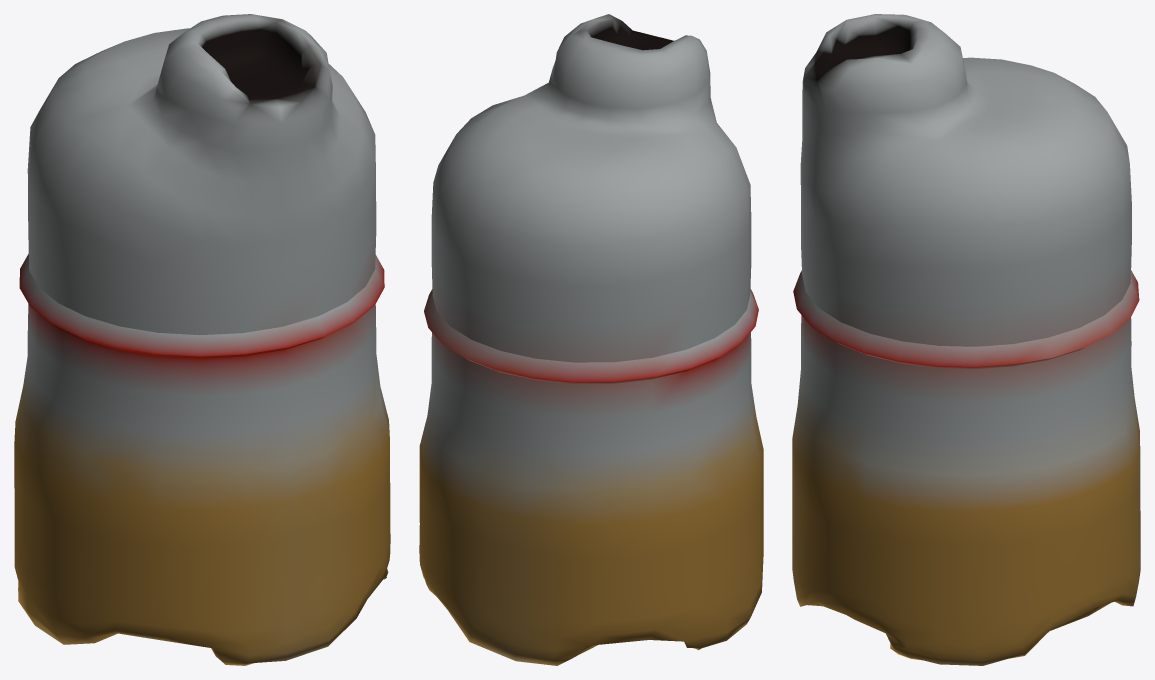
Rendered from cargotankertank.fbx.
The picture shows the model from 3 angles, left to right: view 1: azimuth 30°, elevation 25°; view 2: azimuth 150°, elevation 25°; view 3: azimuth 270°, elevation 25°; orthographic projection. The views are drawn at different scales.
Visible parts, largest first — view 1: Retopo_cargo tanker 2-1.001; view 2: Retopo_cargo tanker 2-1.001; view 3: Retopo_cargo tanker 2-1.001.
Part boxes in pixels (box(x1,y1,x2,y2)): Retopo_cargo tanker 2-1.001: box(14, 14, 390, 665); Retopo_cargo tanker 2-1.001: box(419, 14, 763, 665); Retopo_cargo tanker 2-1.001: box(792, 14, 1140, 665).
Size of the model in its own units: 70.38 by 122 by 68.86.
